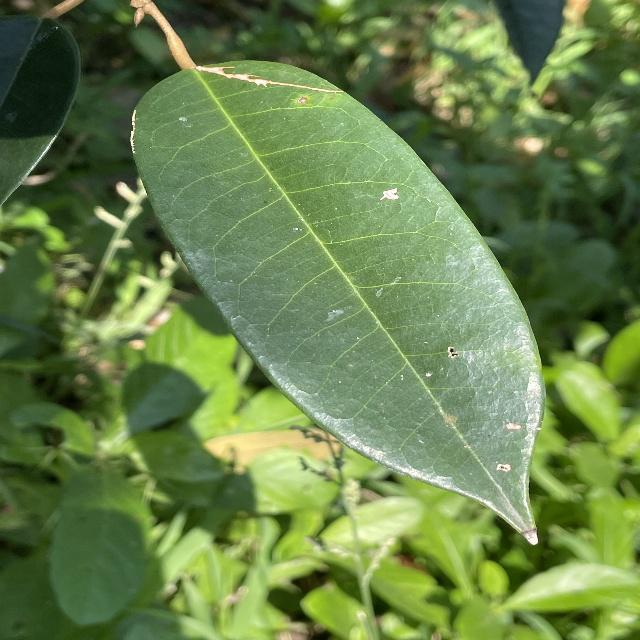No Disease: (123, 45, 557, 549)
